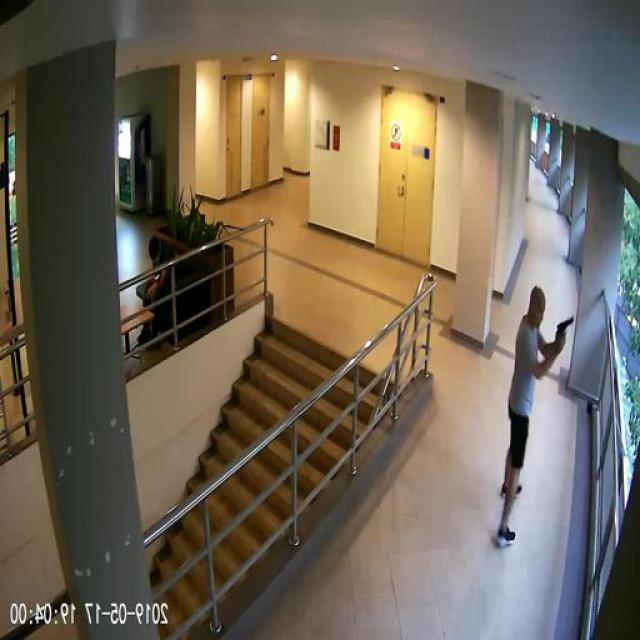Gun: (559, 315, 575, 346)
